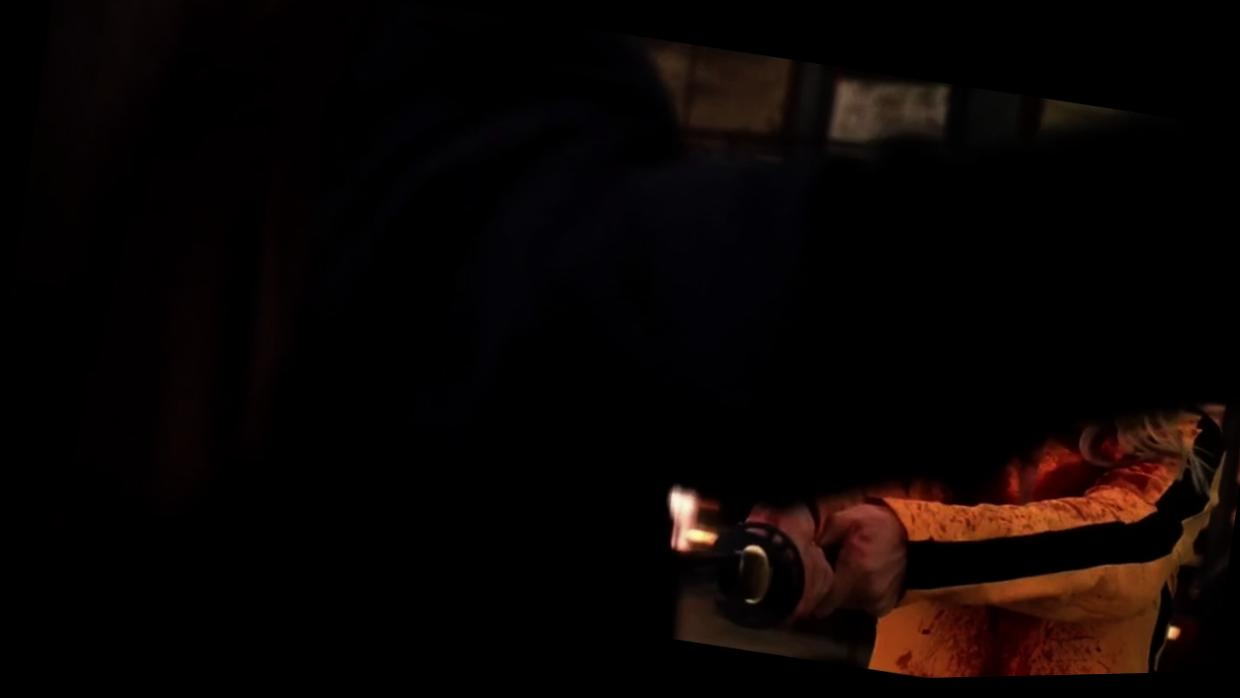Fire: (867, 417, 1228, 682), (840, 530, 872, 563)
